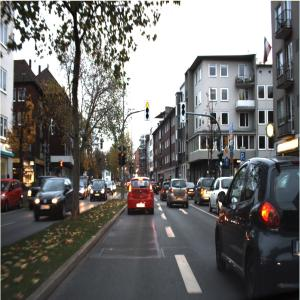go straight: (225, 158, 230, 167)
